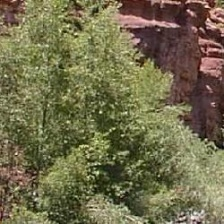neutral: (1, 1, 224, 220)
